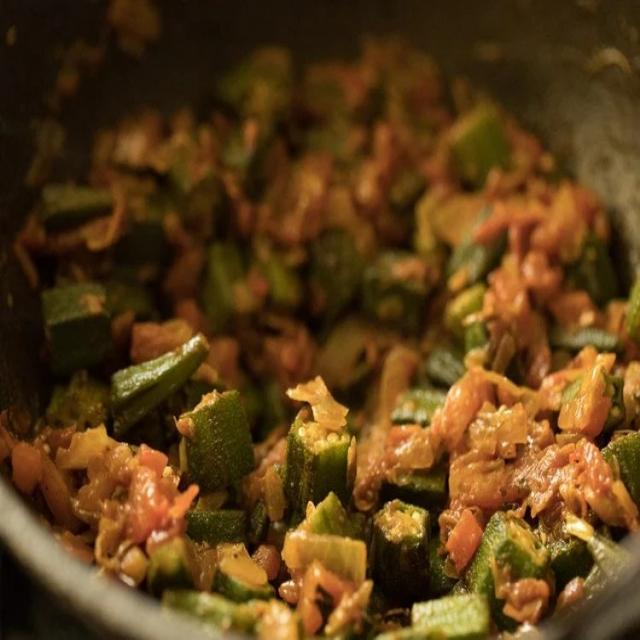BhindiMasala: (1, 0, 636, 639)
